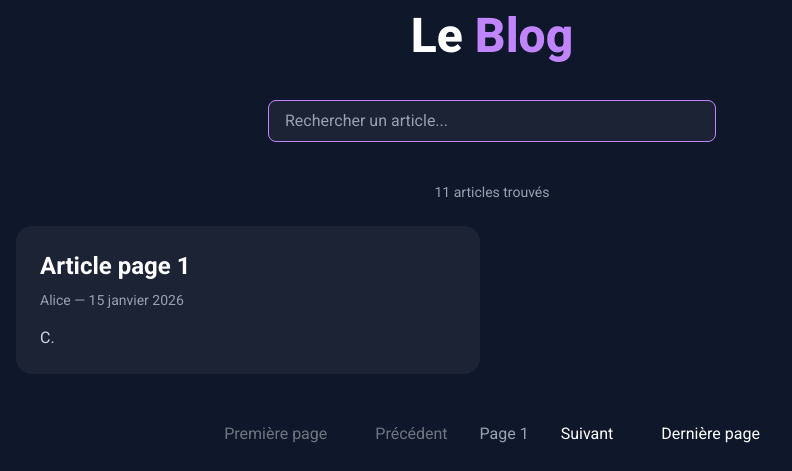
Test case: BlogPage › va directement à la dernière page via le bouton dédié
Check: the heading "Article page 1" is shown, box [40, 252, 190, 280]
Click the button "Dernière page". click: (711, 434)
box: [645, 414, 776, 454]
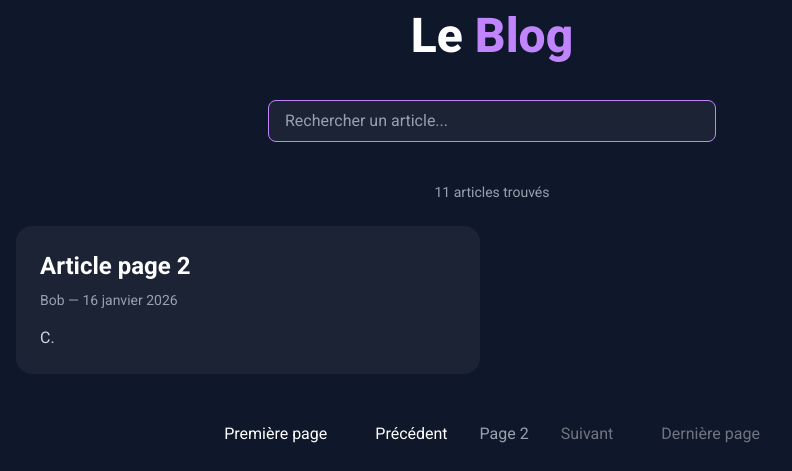
Check: the heading "Article page 2" is shown, box [40, 252, 190, 280]
